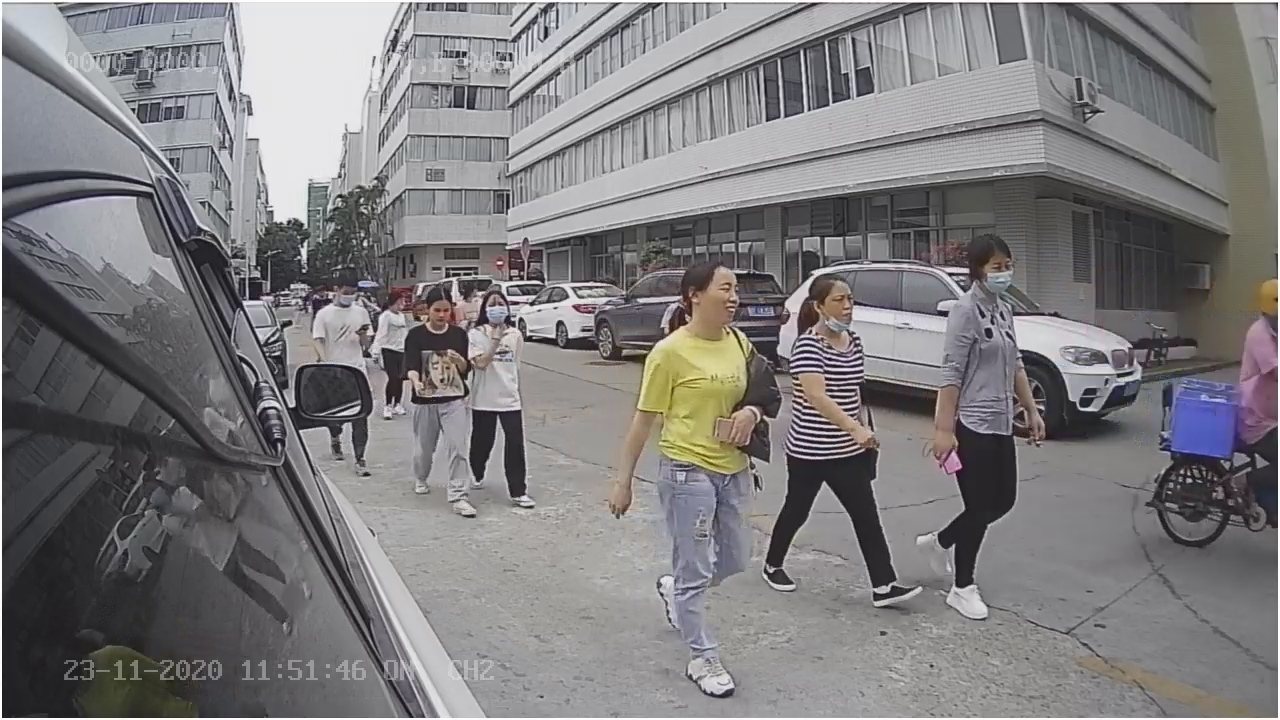person: (608, 255, 769, 697), (917, 229, 1049, 626), (401, 283, 482, 517)
